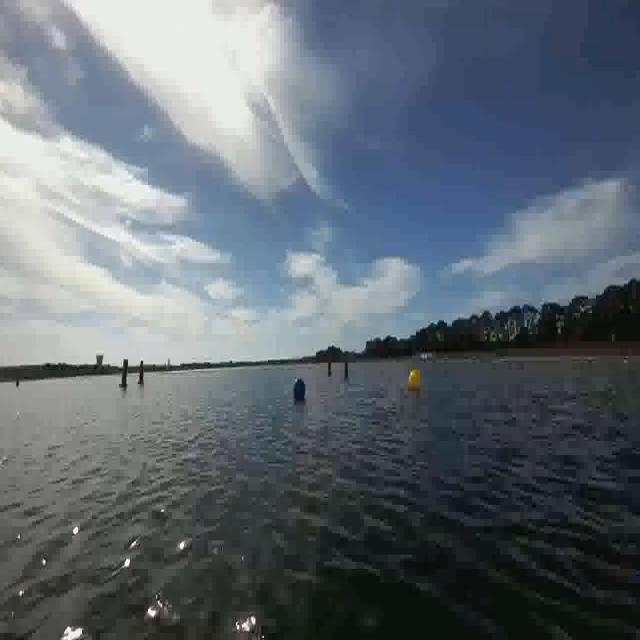blue-buoy: (292, 374, 306, 401)
green-column-buoy: (120, 357, 132, 388)
red-column-buoy: (136, 360, 146, 386)
yellow-buoy: (407, 370, 421, 391)
